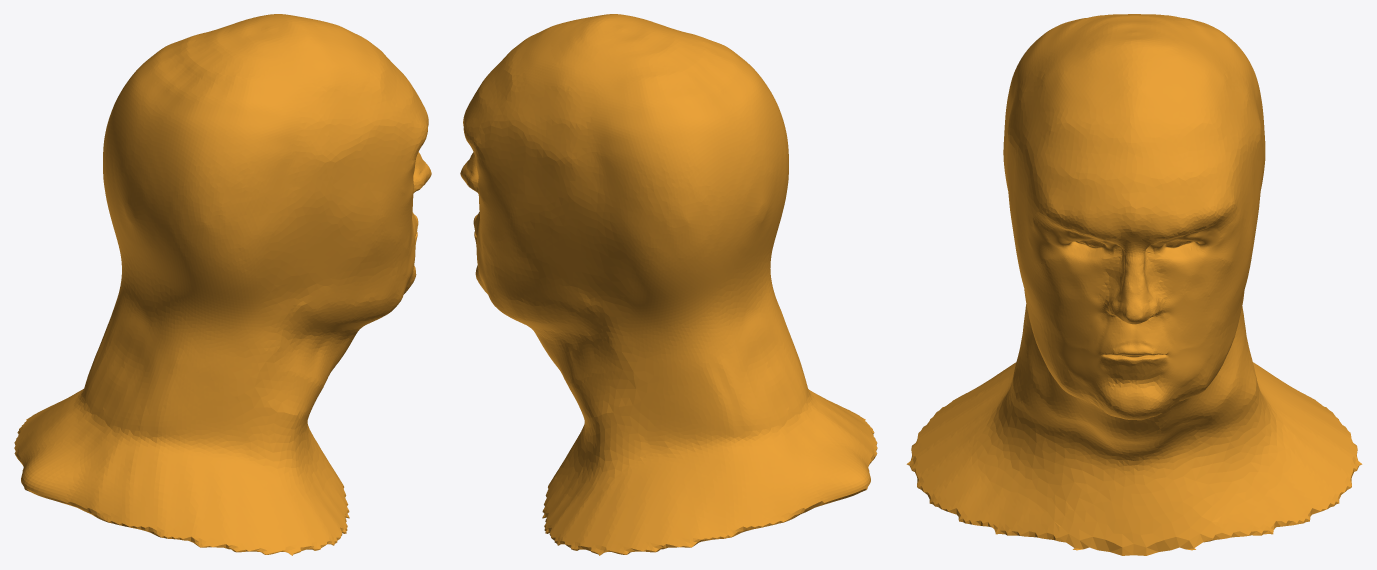
File: DJT_sculpt.fbx
The picture shows the model from 3 angles, left to right: view 1: azimuth 30°, elevation 25°; view 2: azimuth 150°, elevation 25°; view 3: azimuth 270°, elevation 25°; orthographic projection. The views are drawn at different scales.
Visible parts, largest first — view 1: Sphere; view 2: Sphere; view 3: Sphere.
Part boxes in pixels (bbox=[...]): Sphere: bbox=[14, 14, 431, 555]; Sphere: bbox=[460, 14, 877, 555]; Sphere: bbox=[906, 14, 1362, 555].
Size of the model in its own units: 293 by 314 by 260.
